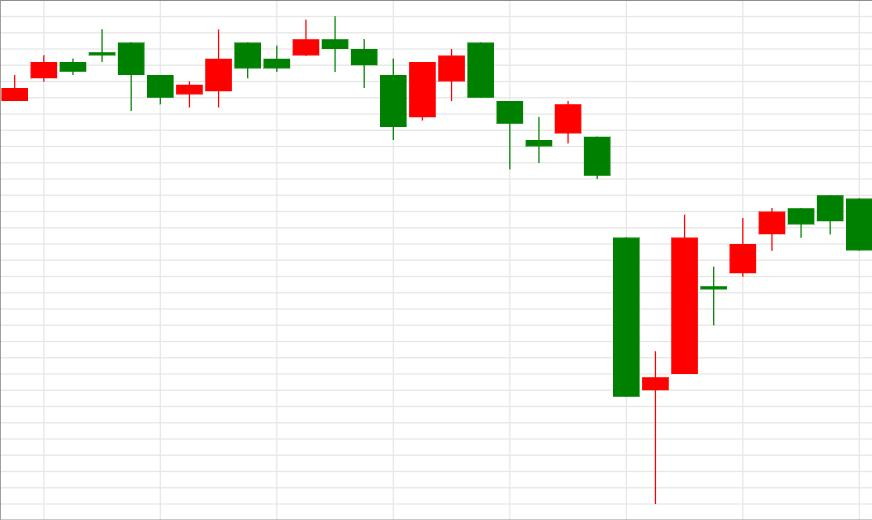morning_star_rise: (467, 42, 698, 505)
